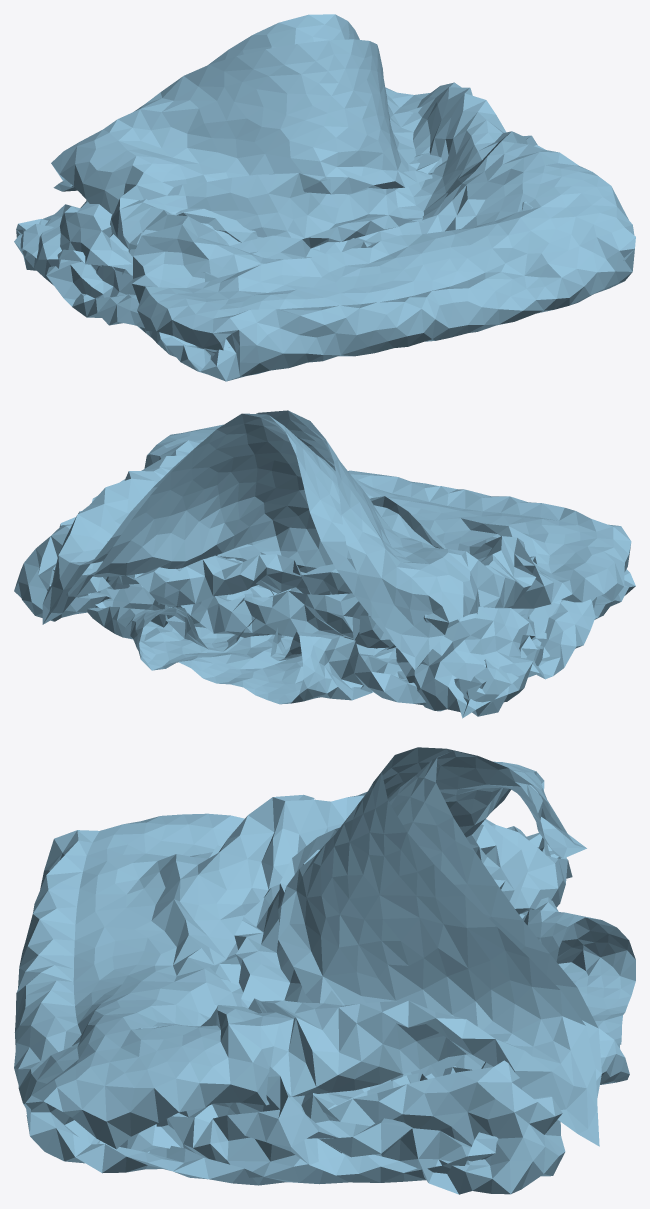
File: frame_20.glb
3 views of the same model, one above another, from view 1: azimuth 30°, elevation 25°; view 2: azimuth 150°, elevation 25°; view 3: azimuth 270°, elevation 25° (orthographic). The views are drawn at different scales.
Visible parts, largest first — view 1: frame_20.obj; view 2: frame_20.obj; view 3: frame_20.obj.
Boxes of the visible parts, <box> form: frame_20.obj: <box>14,14,635,381</box>; frame_20.obj: <box>14,410,635,718</box>; frame_20.obj: <box>14,747,635,1194</box>.
Size of the model in its own units: 0.9631 by 0.4236 by 0.7733.
